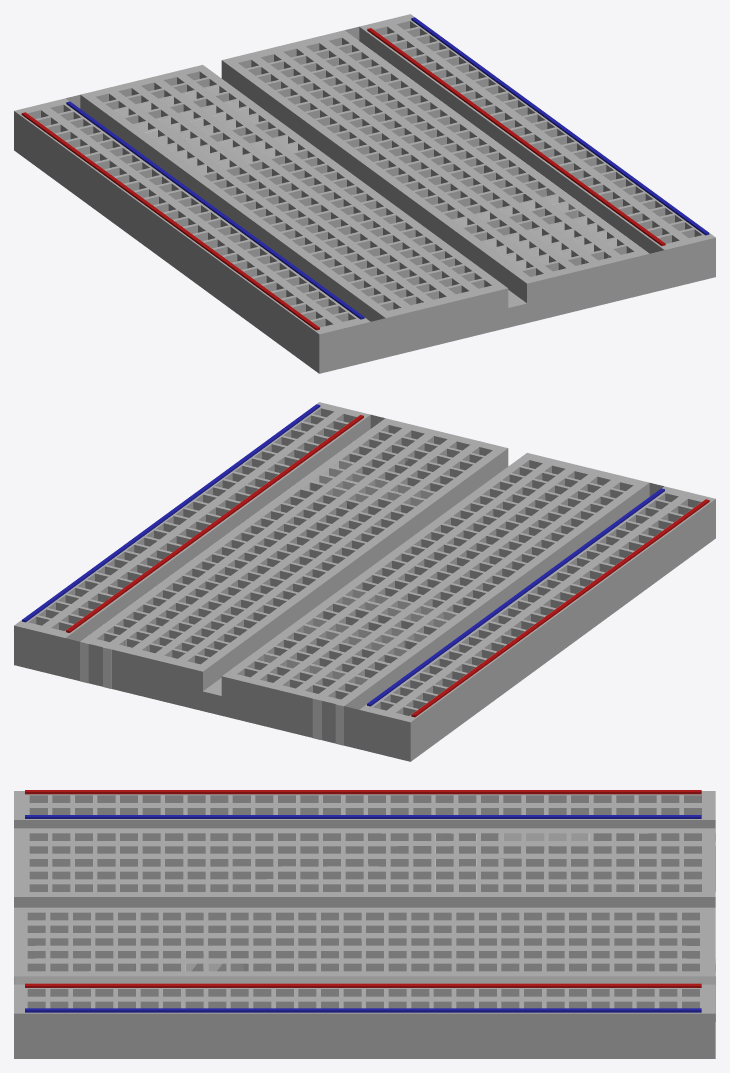
The model's file is breadboard_big.FBX.
3 renders of one model, top to bottom at view 1: azimuth 30°, elevation 25°; view 2: azimuth 150°, elevation 25°; view 3: azimuth 270°, elevation 25°, orthographic. The views are drawn at different scales.
Visible parts, largest first — view 1: Box003, Box004, Box005, Box006, Box007; view 2: Box003, Box004, Box006, Box007, Box005, Box028; view 3: Box003, Box028, Box004, Box005, Box006, Box007, Box026.
Boxes of the visible parts, x1=… form: Box003: x1=14, y1=14, x2=715, y2=373; Box004: x1=411, y1=17, x2=709, y2=235; Box005: x1=367, y1=28, x2=665, y2=245; Box006: x1=21, y1=112, x2=319, y2=330; Box007: x1=66, y1=101, x2=364, y2=319; Box003: x1=14, y1=402, x2=715, y2=761; Box004: x1=22, y1=404, x2=320, y2=622; Box006: x1=411, y1=499, x2=709, y2=717; Box007: x1=367, y1=488, x2=664, y2=706; Box005: x1=66, y1=415, x2=363, y2=632; Box028: x1=80, y1=421, x2=381, y2=683; Box003: x1=14, y1=791, x2=715, y2=1058; Box028: x1=14, y1=972, x2=715, y2=1021; Box004: x1=25, y1=1008, x2=701, y2=1012; Box005: x1=25, y1=983, x2=701, y2=987; Box006: x1=25, y1=790, x2=701, y2=794; Box007: x1=25, y1=815, x2=701, y2=818; Box026: x1=503, y1=828, x2=715, y2=840.
Size of the model in its own units: 105 by 10.47 by 140.
